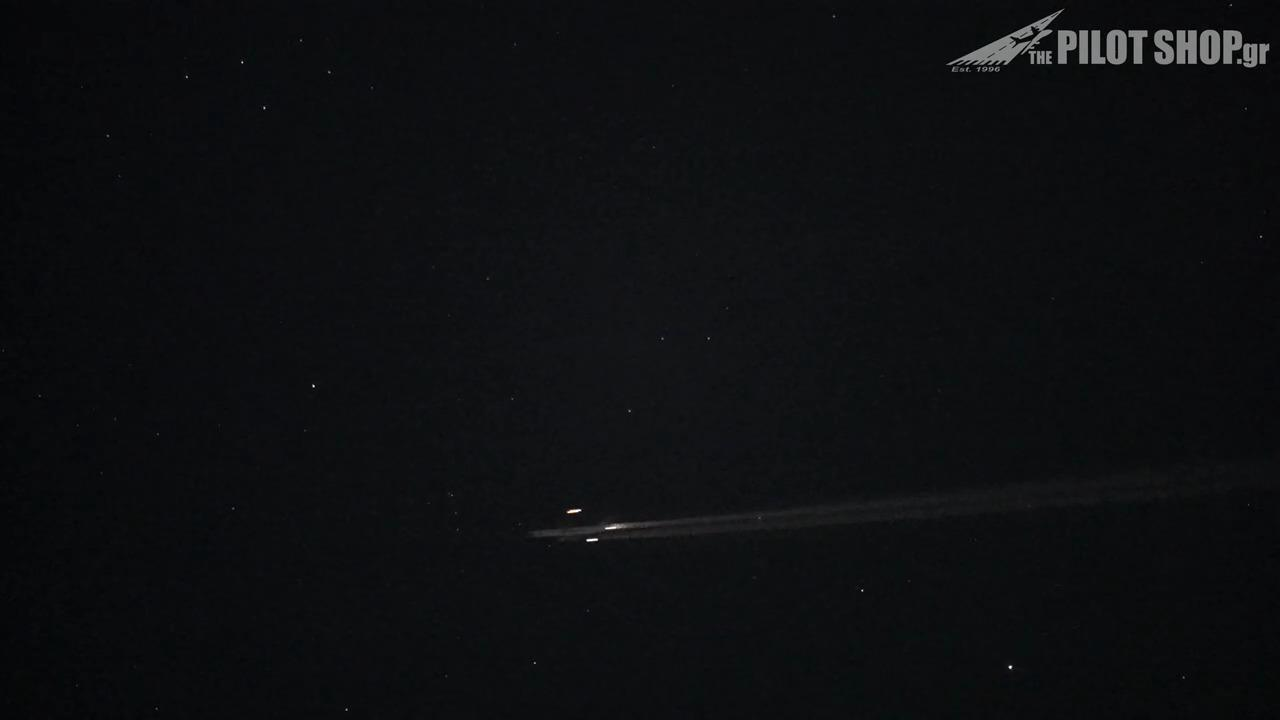Plane: (487, 497, 782, 540)
